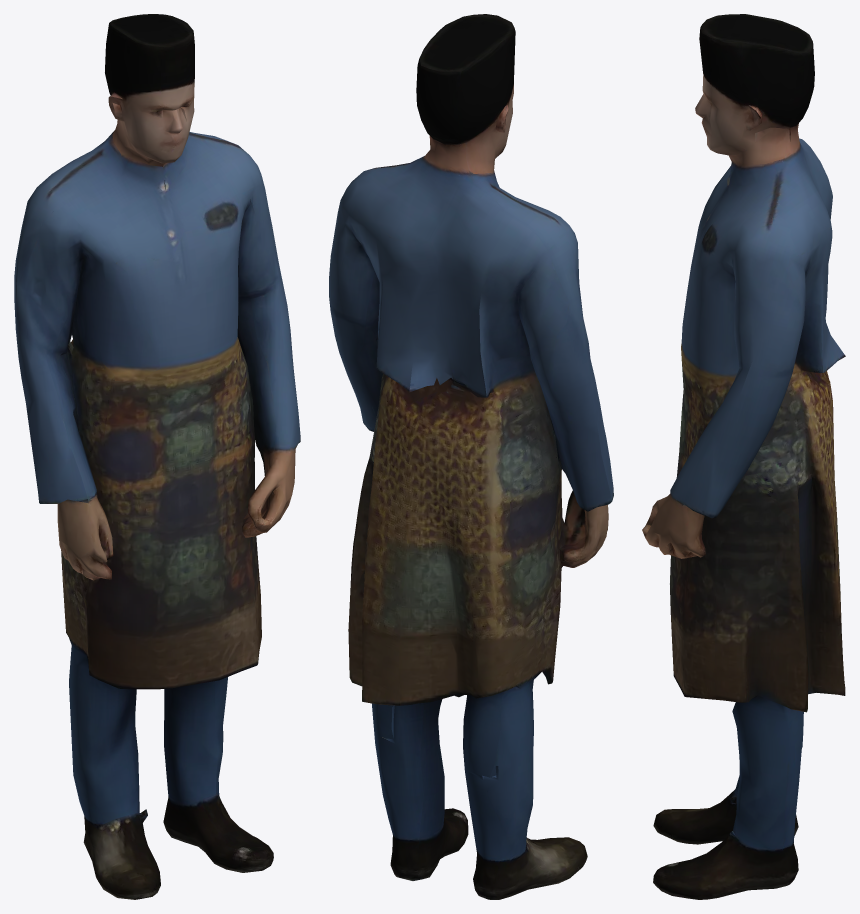
Rendered from baju-melayu.glb.
3 views of the same model, side by side, from view 1: azimuth 30°, elevation 25°; view 2: azimuth 150°, elevation 25°; view 3: azimuth 270°, elevation 25° (orthographic).
Parts seen in each view (by area): view 1: world_0; view 2: world_0; view 3: world_0.
Part boxes in pixels (x1=…): world_0: x1=14, y1=14, x2=300, y2=899; world_0: x1=329, y1=14, x2=613, y2=899; world_0: x1=642, y1=14, x2=845, y2=899.
Bounding box in the file's own units: 0.3236 × 0.999 × 0.2215.
Materials: 1 (1 with a texture image).
